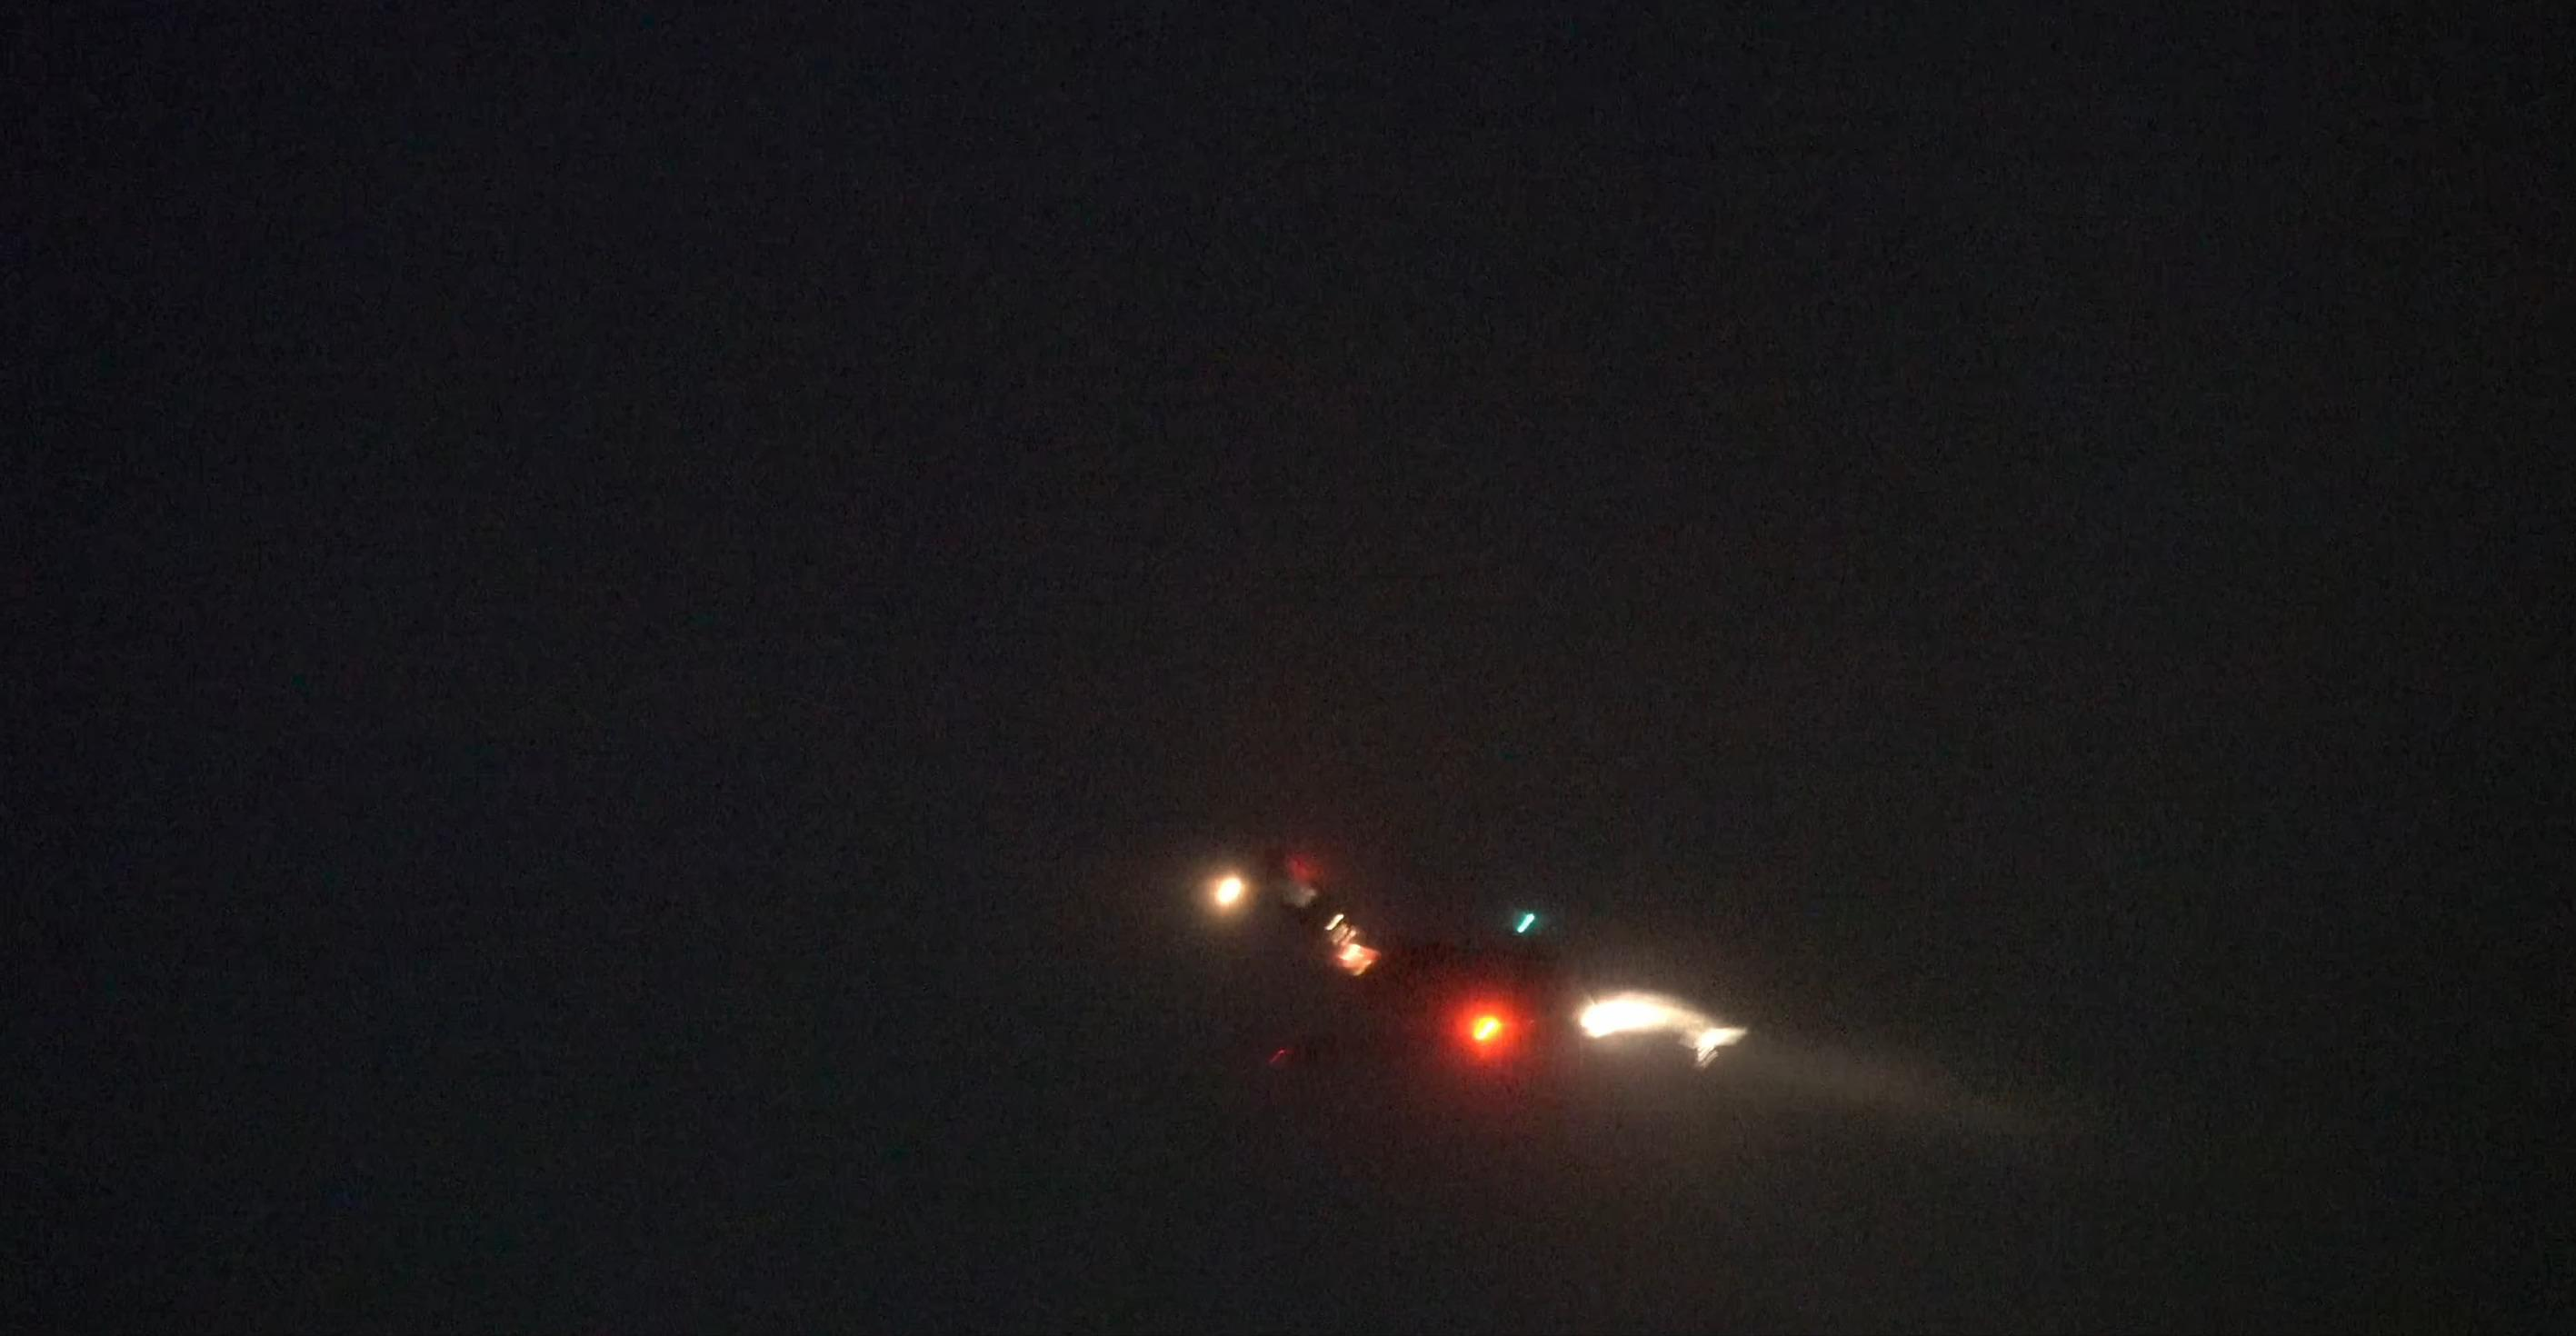Plane: (1213, 850, 1777, 1118)
